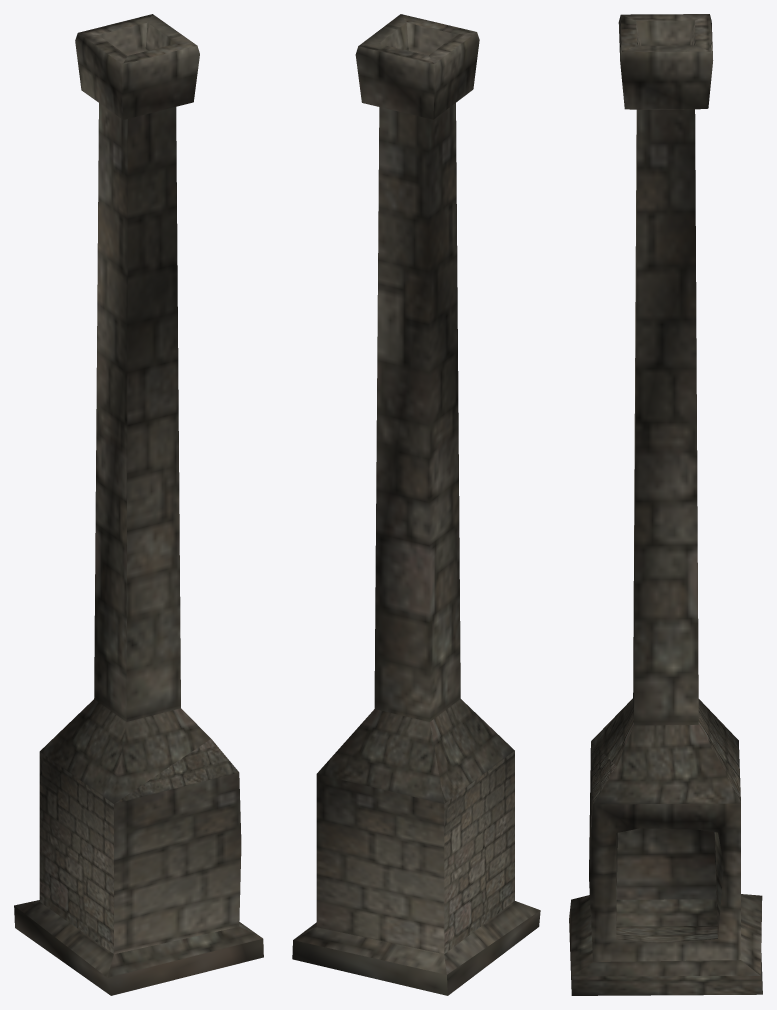
The model's file is Chimney.fbx.
The picture shows the model from 3 angles, left to right: view 1: azimuth 30°, elevation 25°; view 2: azimuth 150°, elevation 25°; view 3: azimuth 270°, elevation 25°; orthographic projection. The views are drawn at different scales.
Parts seen in each view (by area): view 1: Chimney; view 2: Chimney; view 3: Chimney.
Boxes of the visible parts, <box> form: Chimney: <box>14,14,263,995</box>; Chimney: <box>292,14,540,995</box>; Chimney: <box>569,14,762,995</box>.
Bounding box in the file's own units: 0.5047 × 2.78 × 0.53.
